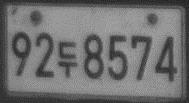2: (34, 32, 55, 79)
4: (153, 35, 178, 82)
5: (107, 34, 129, 80)
7: (129, 34, 152, 82)
8: (82, 32, 104, 80)
9: (11, 31, 31, 75)
두: (56, 39, 78, 79)
